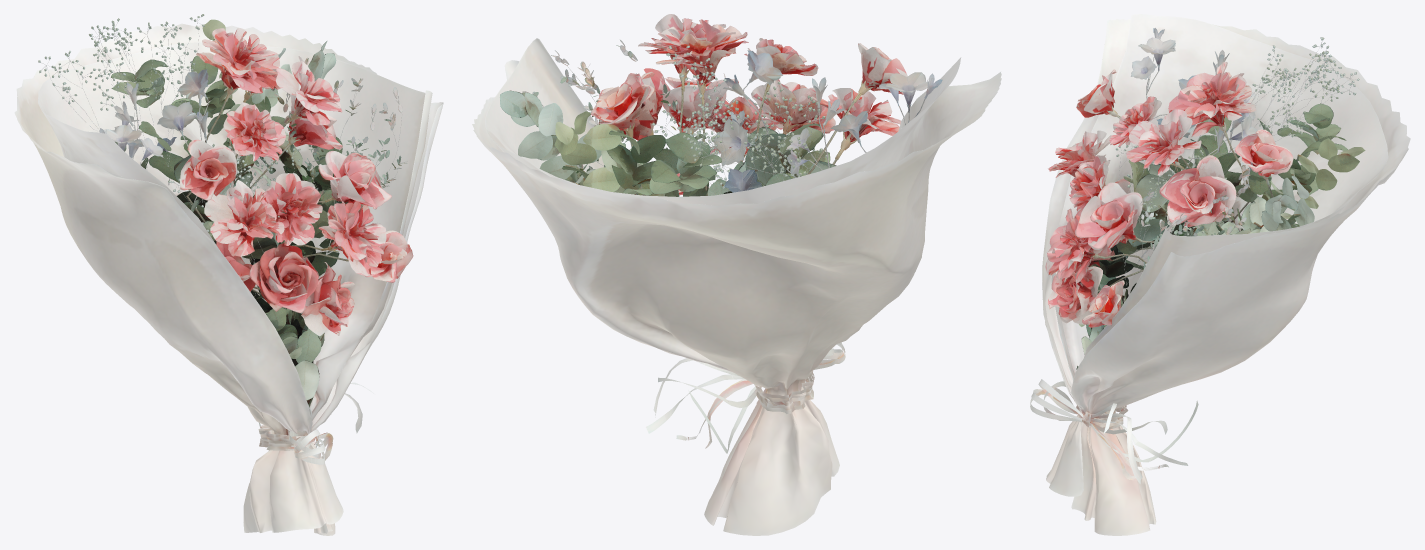
Rendered from Anniversary.glb.
3 views of the same model, side by side, from view 1: azimuth 30°, elevation 25°; view 2: azimuth 150°, elevation 25°; view 3: azimuth 270°, elevation 25° (orthographic). The views are drawn at different scales.
Parts seen in each view (by area): view 1: outer, inner, petal_001, petal_006, petal_008, smallplantC_petals, petal_010, petal_002, petal_012, leaf_001, petal_007, petal_014 (+20 smaller); view 2: outer, inner, leaf_007, smallplantC_petals, leaf_001, petal_006, ribbon, petal_002, petal_012, petal_009, petal_001, leaf_004 (+13 smaller); view 3: outer, inner, petal_005, petal_006, ribbon, leaf_007, petal_012, petal_011, leaf_006, petal_010, smallplantC_petals, leaf_001 (+16 smaller).
Part boxes in pixels (x1,y1,x2,y2): outer: [14, 23, 443, 535]; inner: [38, 42, 432, 435]; petal_001: [204, 180, 284, 256]; petal_006: [196, 28, 280, 93]; petal_008: [249, 243, 319, 313]; smallplantC_petals: [99, 69, 208, 160]; petal_010: [318, 201, 386, 276]; petal_002: [261, 172, 322, 245]; petal_012: [318, 151, 391, 209]; leaf_001: [111, 55, 235, 118]; petal_007: [223, 102, 285, 161]; petal_014: [180, 139, 237, 200]; outer: [472, 60, 1001, 535]; inner: [485, 38, 961, 206]; leaf_007: [518, 103, 715, 196]; smallplantC_petals: [713, 50, 942, 192]; leaf_001: [606, 130, 721, 195]; petal_006: [648, 19, 748, 85]; ribbon: [646, 342, 845, 453]; petal_002: [751, 79, 835, 133]; petal_012: [662, 73, 738, 132]; petal_009: [591, 73, 654, 130]; petal_001: [812, 88, 900, 142]; leaf_004: [723, 123, 819, 193]; outer: [1042, 18, 1410, 535]; inner: [1051, 14, 1388, 380]; petal_005: [1159, 155, 1236, 226]; petal_006: [1168, 61, 1256, 136]; ribbon: [1030, 379, 1198, 483]; leaf_007: [1235, 138, 1365, 226]; petal_012: [1074, 182, 1142, 249]; petal_011: [1126, 109, 1201, 175]; leaf_006: [1116, 160, 1207, 254]; petal_010: [1045, 208, 1103, 284]; smallplantC_petals: [1130, 28, 1257, 172]; leaf_001: [1278, 103, 1347, 194].
Size of the model in its own units: 0.5816 by 0.6426 by 0.4983.
Materials: 31 (31 with a texture image).
